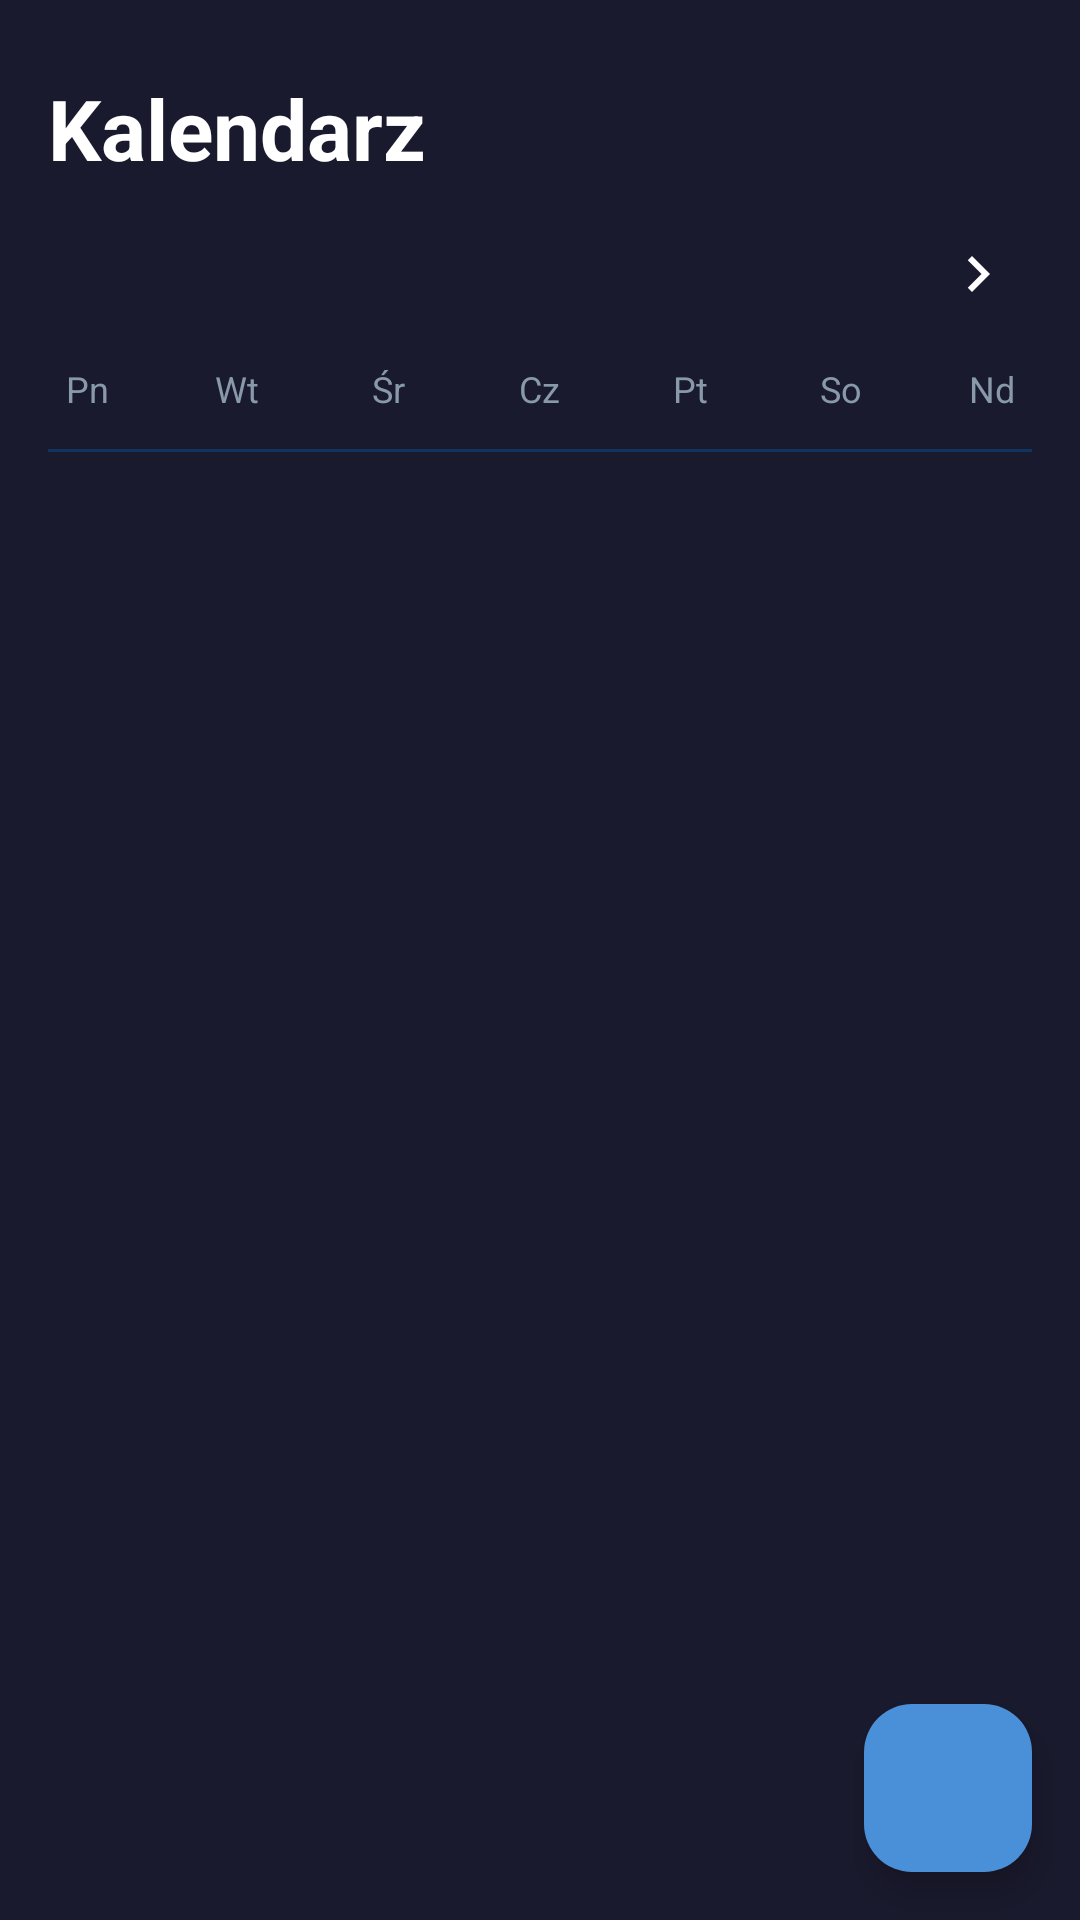

Icon click points for this 1080px×1920px phone screenshot, format (x,y):
Następny miesiąc: (979,274)
